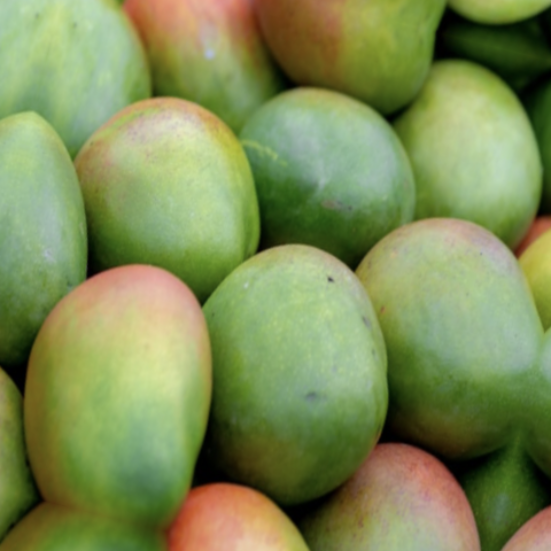mango: (143, 213, 437, 521), (0, 233, 264, 540), (309, 176, 551, 494), (204, 41, 456, 281)
